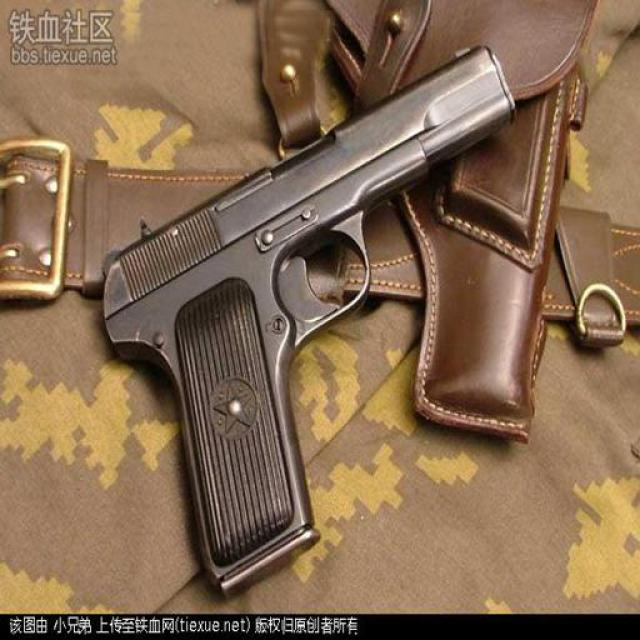pistol: (91, 36, 516, 595)
